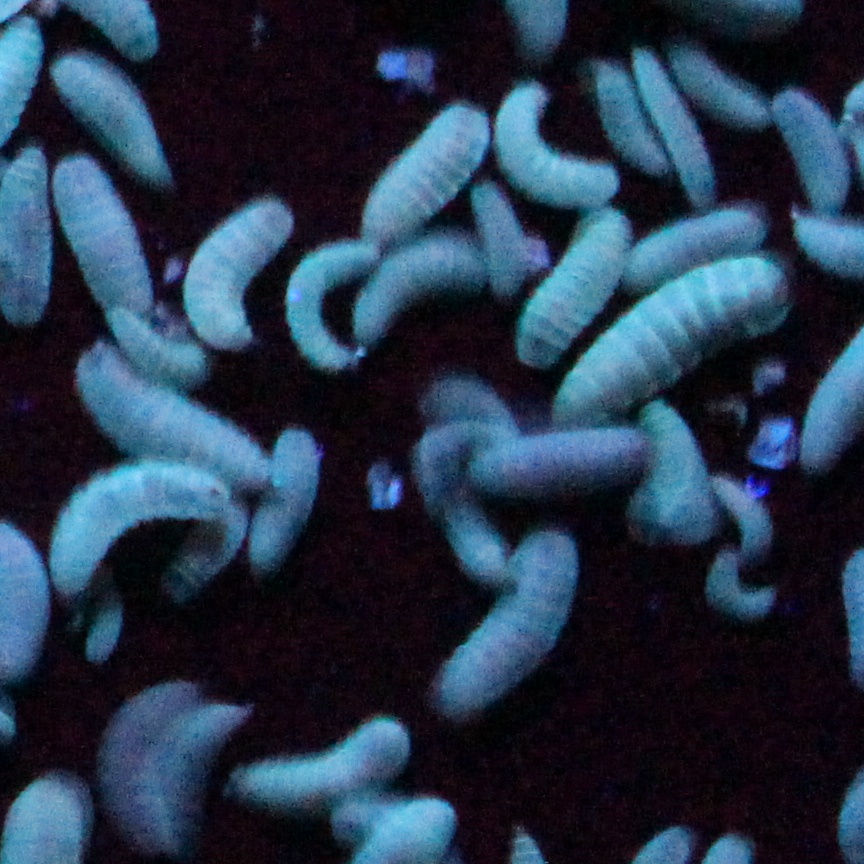larve: (559, 259, 791, 428), (74, 342, 279, 488), (442, 529, 582, 718), (51, 460, 236, 594), (360, 102, 491, 242), (50, 42, 176, 187), (516, 208, 633, 364), (50, 153, 156, 318), (184, 198, 293, 352), (227, 716, 411, 805), (102, 683, 194, 858), (490, 82, 617, 208), (154, 703, 251, 860), (631, 42, 714, 208), (360, 236, 484, 347), (627, 402, 717, 544), (460, 427, 649, 492), (285, 239, 376, 373), (627, 210, 767, 293), (765, 87, 848, 210), (670, 39, 773, 130), (107, 307, 208, 393), (254, 429, 316, 565), (596, 61, 671, 173), (428, 488, 513, 585), (424, 373, 517, 452), (470, 179, 530, 298), (705, 552, 780, 618), (716, 475, 774, 550)
